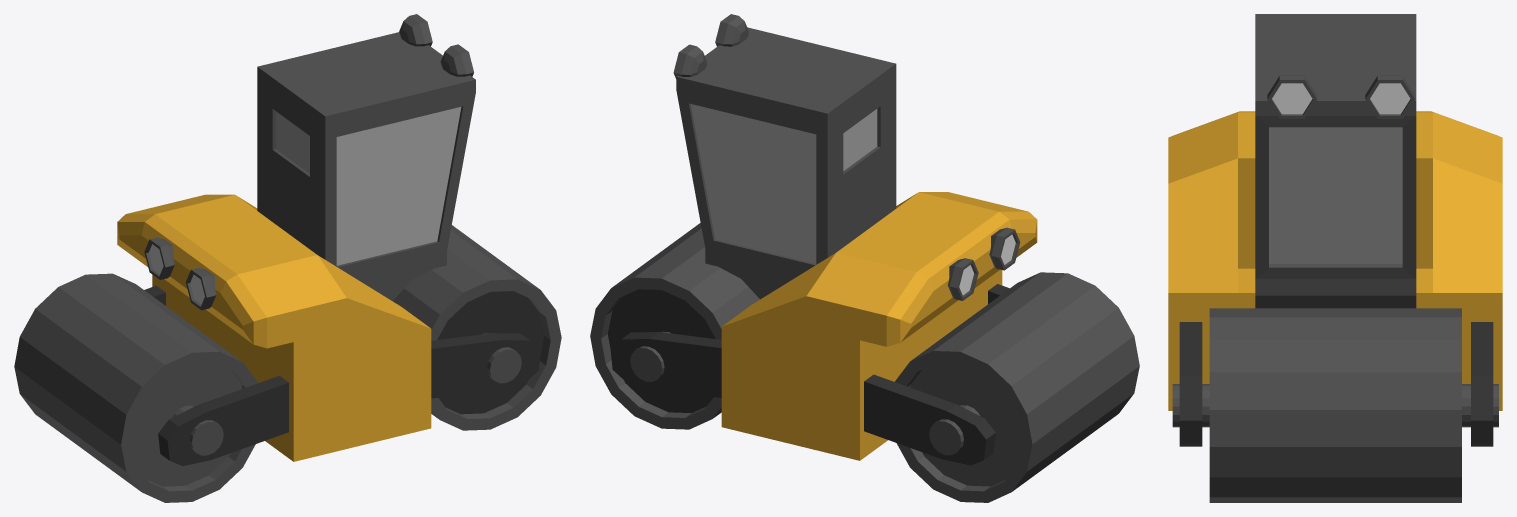
3 renders of one model, left to right at view 1: azimuth 30°, elevation 25°; view 2: azimuth 150°, elevation 25°; view 3: azimuth 270°, elevation 25°, orthographic. The views are drawn at different scales.
Visible parts, largest first — view 1: C-2, Cylinder.065, Cylinder.064, Cube.038, Cube.030, Cylinder.138, Cylinder.051; view 2: C-2, Cylinder.065, Cylinder.064, Cube.037, Cube.036, Cylinder.138, Cylinder.051; view 3: C-2, Cylinder.064, Cube.030, Cube.036.
Boxes of the visible parts, box(x1,y1,x2,y2) form: C-2: box(117, 14, 475, 461); Cylinder.065: box(14, 273, 257, 502); Cylinder.064: box(393, 225, 561, 430); Cube.038: box(158, 375, 288, 466); Cube.030: box(431, 333, 540, 398); Cylinder.138: box(144, 237, 174, 279); Cylinder.051: box(185, 267, 216, 310); C-2: box(673, 14, 1037, 460); Cylinder.065: box(895, 272, 1139, 502); Cylinder.064: box(590, 223, 759, 429); Cube.037: box(864, 374, 995, 465); Cube.036: box(610, 332, 721, 397); Cylinder.138: box(948, 258, 978, 300); Cylinder.051: box(989, 227, 1020, 270); C-2: box(1168, 14, 1502, 410); Cylinder.064: box(1172, 308, 1498, 502); Cube.030: box(1179, 322, 1202, 446); Cube.036: box(1471, 322, 1493, 446).
Size of the model in its own units: 1264 by 971 by 703.
